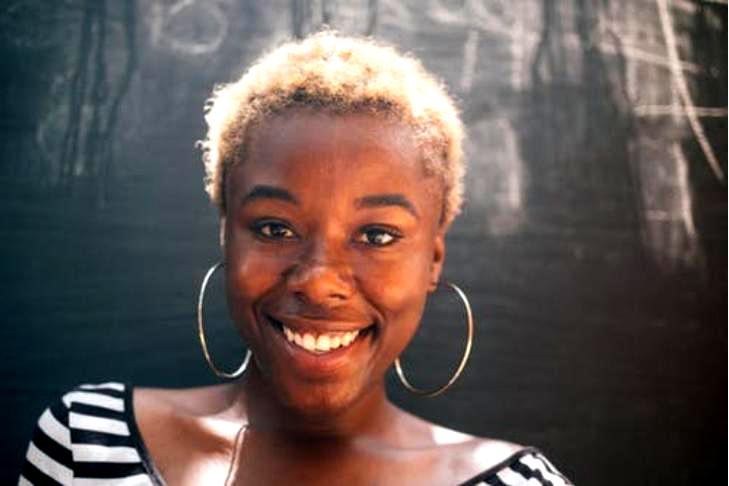face: (224, 113, 437, 417)
